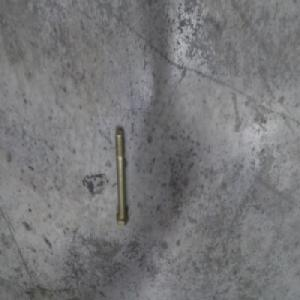Bolt: (112, 126, 130, 229)
